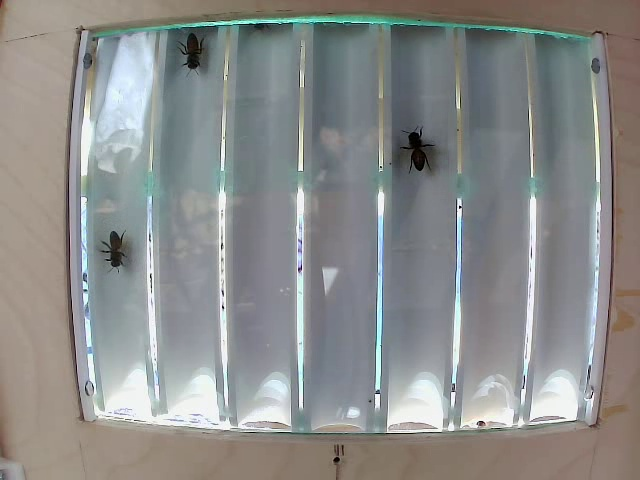bee: (92, 221, 138, 277), (392, 115, 430, 172), (173, 40, 213, 79)
